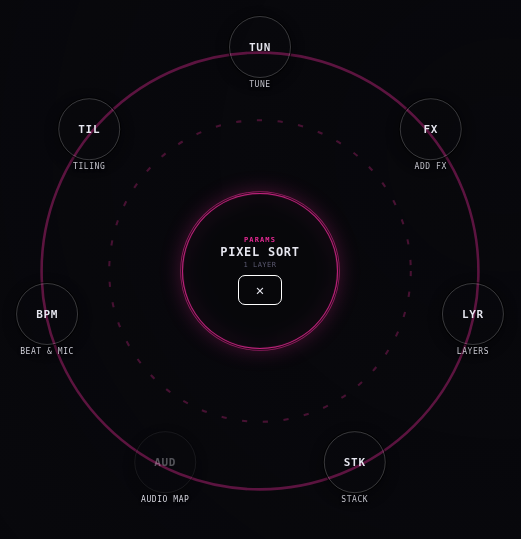
Scenario: ParamWheel › reaches the selected layer's real parameters from Tune
This screenshot has width=521, height=539.
Click the menu item "TUN": (260, 47) [229,16,291,78]
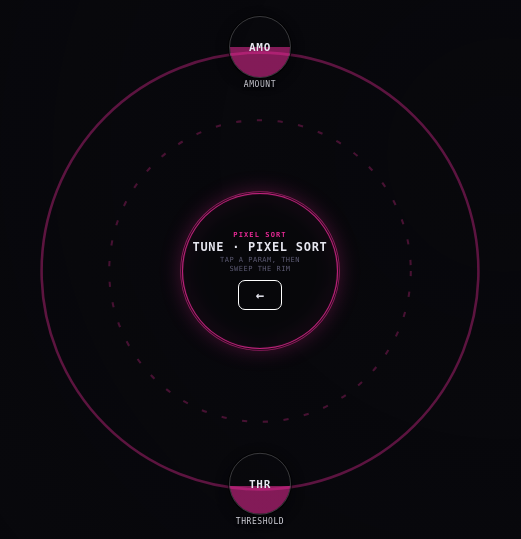
Expected: the menu item "AMO" is shown, [229,16,291,78]
Expected: the menu item "THR" is shown, [229,453,291,515]
